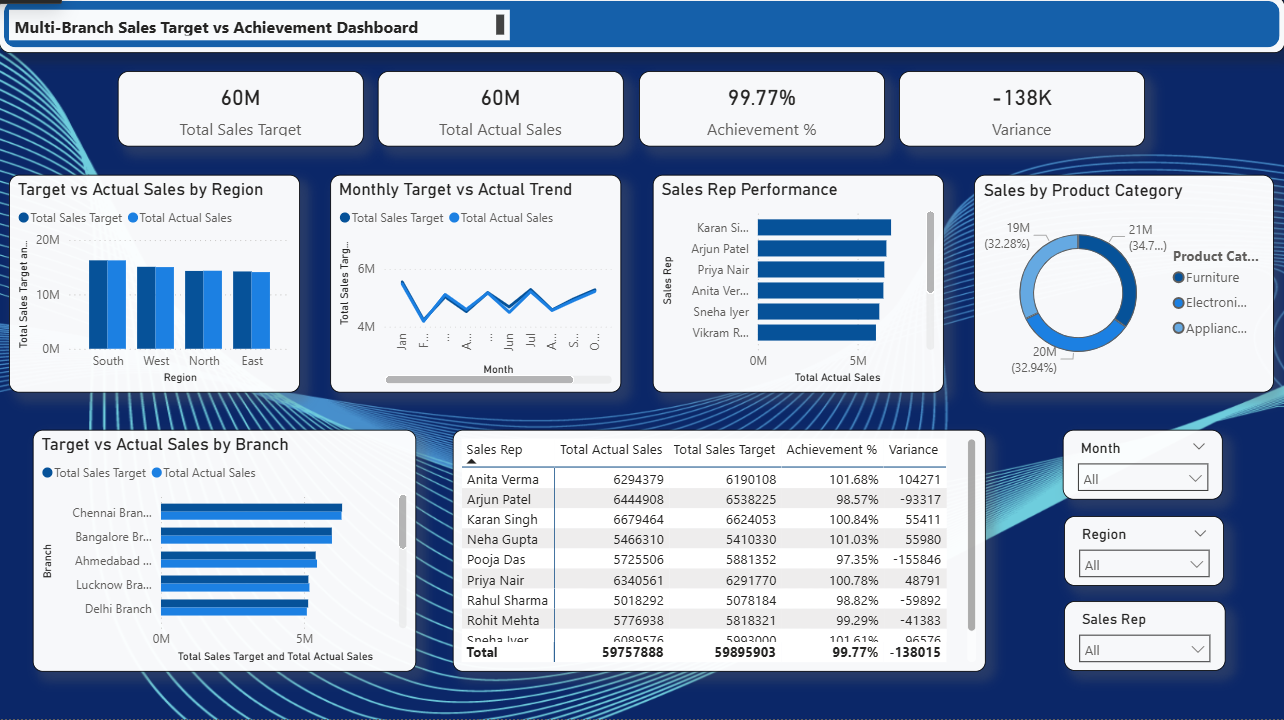

What the dashboard file says about the page in this screenshot:
{"tool":"powerbi","page":{"name":"Page 1","canvas":[1280,720],"ordinal":0},"visuals":[{"type":"slicer","fields":{"Values":["SalesData.Month"]},"box":[1058.9,431.9,159.5,69.9],"z":0},{"type":"slicer","fields":{"Values":["SalesData.Sales Rep"]},"box":[1060.1,602.5,160.7,69.9],"z":1000},{"type":"slicer","fields":{"Values":["SalesData.Region"]},"box":[1060.1,517.2,159.5,69.9],"z":2000},{"type":"clusteredColumnChart","title":" Target vs Actual Sales by Region","fields":{"Category":["SalesData.Region"],"Y":["SalesData.Total Sales Target","SalesData.Total Actual Sales"]},"box":[9.8,177.9,289.6,217.2],"z":3000},{"type":"lineChart","title":"Monthly Target vs Actual Trend ","fields":{"Category":["SalesData.Month"],"Y":["SalesData.Total Sales Target","SalesData.Total Actual Sales"]},"box":[330.1,177.9,289.6,217.2],"z":4000},{"type":"clusteredBarChart","title":"Sales Rep Performance","fields":{"Y":["SalesData.Total Actual Sales"],"Category":["SalesData.Sales Rep"]},"box":[650.3,177.9,289.6,217.2],"z":5000},{"type":"clusteredBarChart","title":"Target vs Actual Sales by Branch","fields":{"Category":["SalesData.Branch"],"Y":["SalesData.Total Sales Target","SalesData.Total Actual Sales"]},"box":[33.1,431.9,381.6,240.5],"z":6000},{"type":"pivotTable","fields":{"Rows":["SalesData.Branch","SalesData.Region","SalesData.Sales Rep"],"Values":["SalesData.Total Actual Sales","SalesData.Total Sales Target","SalesData.Achievement %","SalesData.Variance"]},"box":[451.5,431.9,530.1,240.5],"z":7000},{"type":"card","fields":{"Values":["SalesData.Total Sales Target"]},"box":[118,75.1,245,74.8],"z":8000},{"type":"card","fields":{"Values":["SalesData.Total Actual Sales"]},"box":[377.3,75.1,245,74.8],"z":9000},{"type":"card","fields":{"Values":["SalesData.Achievement %"]},"box":[636.6,75.1,245,74.8],"z":10000},{"type":"card","fields":{"Values":["SalesData.Variance"]},"box":[896,75.1,245,74.8],"z":11000},{"type":"shape","box":[0,0,1279.8,56.4],"z":12000},{"type":"textbox","box":[9.8,13.5,498.2,30.7],"z":13000},{"type":"donutChart","title":"Sales by Product Category","fields":{"Category":["SalesData.Product Category"],"Y":["SalesData.Total Actual Sales"]},"box":[970.6,177.9,298.2,217.2],"z":14000}]}

Visuals, with their boxes in screenshot pixels (x1, y1, x2, y2), scaled from the page's 1280x720 canvas onto the 1284x720 screenshot:
slicer - SalesData.Month: (x1=1062, y1=432, x2=1222, y2=502)
slicer - SalesData.Sales Rep: (x1=1063, y1=602, x2=1225, y2=672)
slicer - SalesData.Region: (x1=1063, y1=517, x2=1223, y2=587)
" Target vs Actual Sales by Region" clusteredColumnChart: (x1=10, y1=178, x2=300, y2=395)
"Monthly Target vs Actual Trend " lineChart: (x1=331, y1=178, x2=622, y2=395)
"Sales Rep Performance" clusteredBarChart: (x1=652, y1=178, x2=943, y2=395)
"Target vs Actual Sales by Branch" clusteredBarChart: (x1=33, y1=432, x2=416, y2=672)
pivotTable - SalesData.Branch x SalesData.Region: (x1=453, y1=432, x2=985, y2=672)
card - SalesData.Total Sales Target: (x1=118, y1=75, x2=364, y2=150)
card - SalesData.Total Actual Sales: (x1=378, y1=75, x2=624, y2=150)
card - SalesData.Achievement %: (x1=639, y1=75, x2=884, y2=150)
card - SalesData.Variance: (x1=899, y1=75, x2=1145, y2=150)
shape: (x1=0, y1=0, x2=1283, y2=56)
textbox: (x1=10, y1=14, x2=510, y2=44)
"Sales by Product Category" donutChart: (x1=974, y1=178, x2=1273, y2=395)
